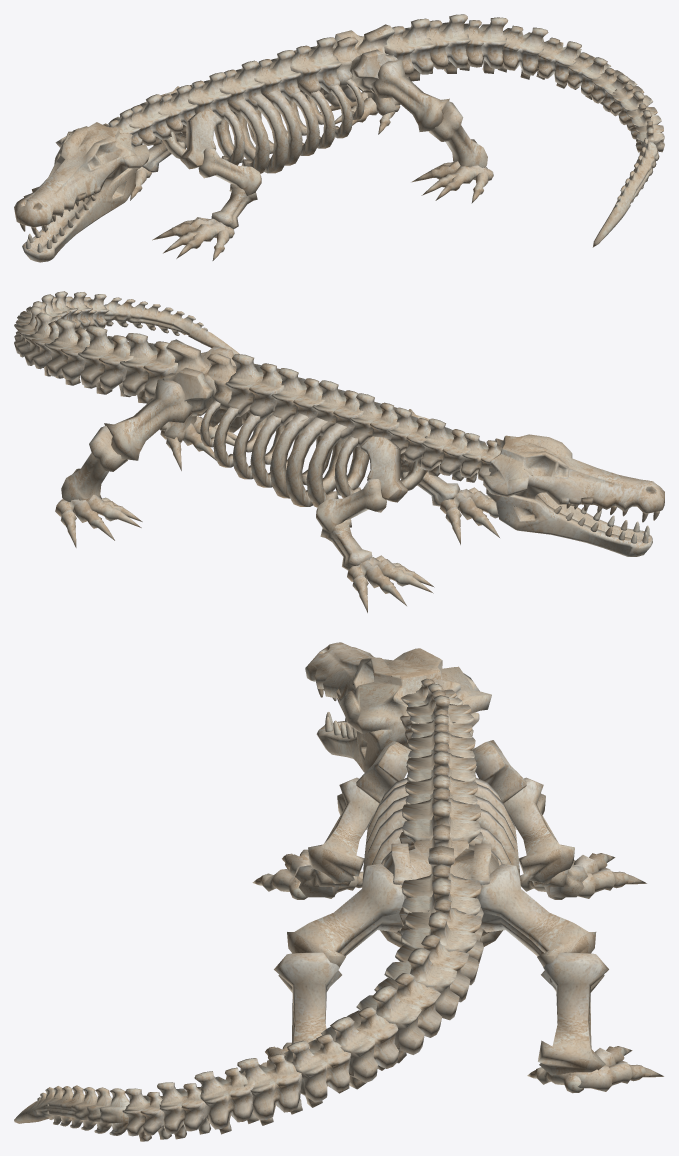
File: Crocodylus_niloticus.glb
3 renders of one model, top to bottom at view 1: azimuth 30°, elevation 25°; view 2: azimuth 150°, elevation 25°; view 3: azimuth 270°, elevation 25°, orthographic. The views are drawn at different scales.
Parts seen in each view (by area): view 1: череп, таз, кость.006, позвонок.006, позвонок.007, позвонок.008, позвонок.009, кость.004, хвост, позвонок.010, кисть, кисть.001 (+28 smaller); view 2: череп, таз, кость.002, позвонок.006, позвонок.008, хвост, позвонок.007, кость.007, кисть.003, позвонок.001, позвонок.005, позвонок.009 (+25 smaller); view 3: череп, кость.007, кость.006, кость.002, таз, позвонок.010, хвост, кость.003, кость.008, кость.004, позвонок.009, позвонок.011 (+23 smaller).
Part boxes in pixels (x1,y1,x2,y2): череп: (14,122,149,262); таз: (323,24,397,107); кость.006: (370,59,449,131); позвонок.006: (290,37,342,99); позвонок.007: (384,18,435,81); позвонок.008: (424,14,470,73); позвонок.009: (459,17,507,73); кость.004: (428,101,487,167); хвост: (592,138,659,247); позвонок.010: (497,25,548,79); кисть: (152,217,234,260); кисть.001: (411,161,493,203); череп: (483,434,664,556); таз: (162,339,246,432); кость.002: (104,378,193,460); позвонок.006: (225,354,283,423); позвонок.008: (77,326,133,397); хвост: (104,297,239,354); позвонок.007: (119,333,177,403); кость.007: (61,425,127,501); кисть.003: (347,555,434,612); позвонок.001: (421,418,470,481); позвонок.005: (271,368,324,430); позвонок.009: (44,318,96,388); череп: (305,642,491,772); кость.007: (538,952,608,1075); кость.006: (287,863,406,982); кость.002: (476,863,596,982); таз: (383,824,499,898); позвонок.010: (356,973,441,1063); хвост: (14,1085,129,1135); кость.003: (503,777,574,883); кость.008: (308,777,379,883); кость.004: (274,952,341,1056); позвонок.009: (384,934,470,1020); позвонок.011: (321,1007,398,1089).
Bounding box in the file's own units: 0.8157 × 0.1858 × 0.497.
Materials: 1 (1 with a texture image).
